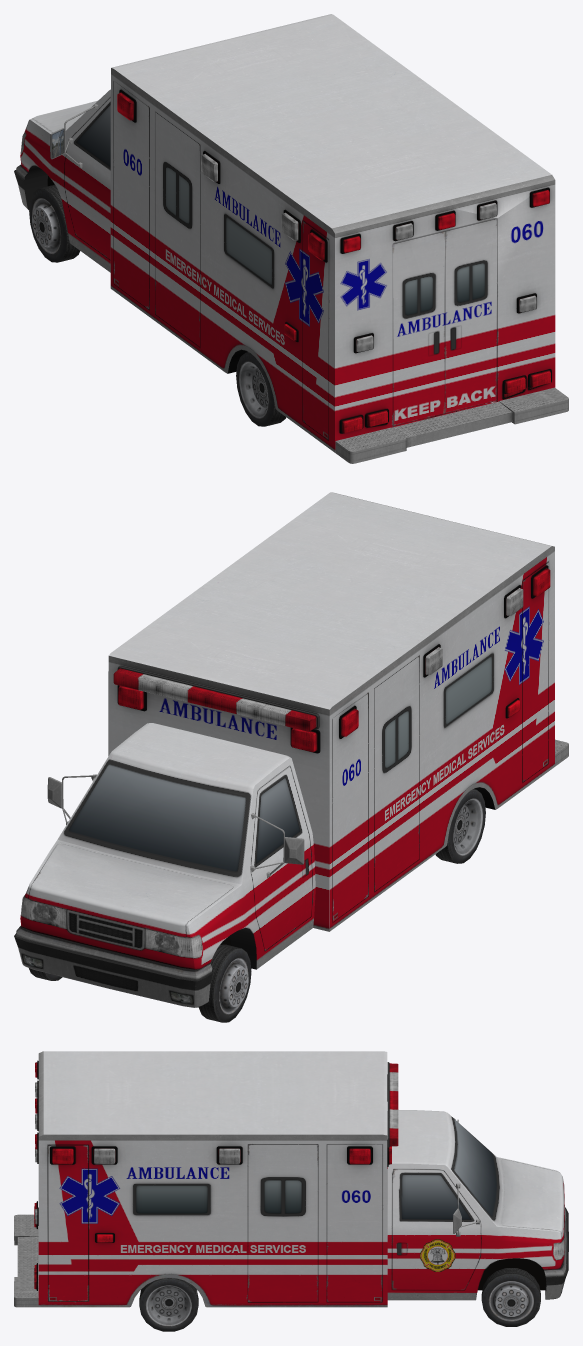
The model's file is Ambulancia.fbx.
3 renders of one model, top to bottom at view 1: azimuth 30°, elevation 25°; view 2: azimuth 150°, elevation 25°; view 3: azimuth 270°, elevation 25°, orthographic. The views are drawn at different scales.
Parts seen in each view (by area): view 1: amulans; view 2: amulans; view 3: amulans.
Boxes of the visible parts, x1,y1,x2,y2 form: amulans: (14, 14, 568, 463); amulans: (14, 492, 568, 1022); amulans: (14, 1051, 568, 1331).
Bounding box in the file's own units: 1107 × 1063 × 2690.
